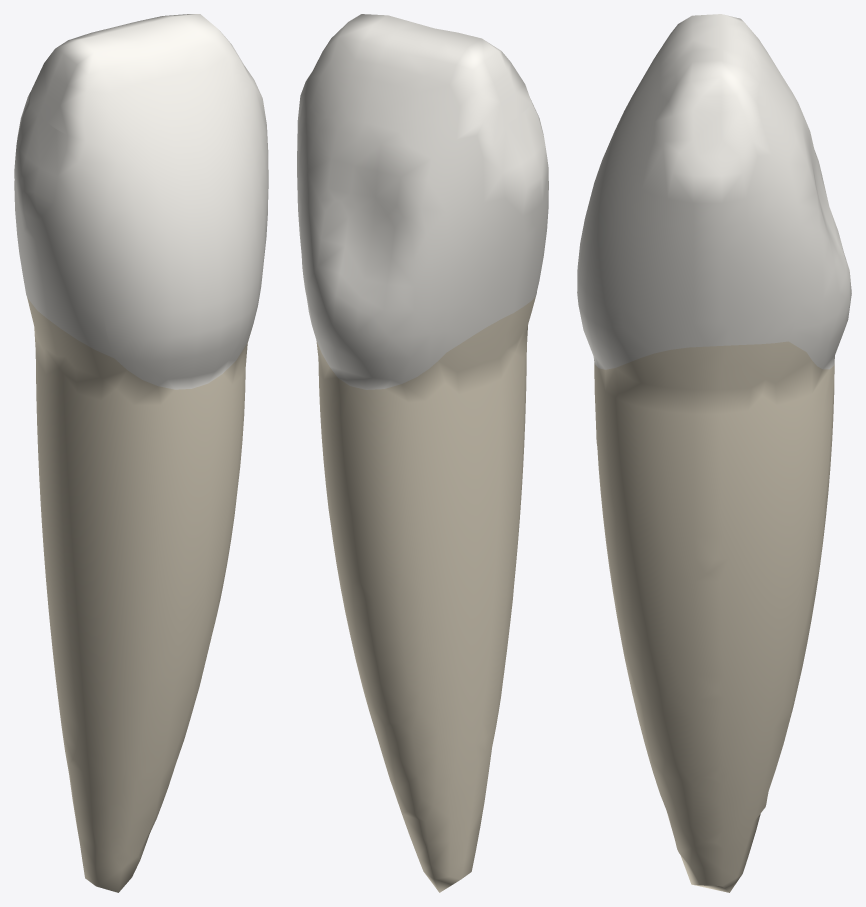
The picture shows the model from 3 angles, left to right: view 1: azimuth 30°, elevation 25°; view 2: azimuth 150°, elevation 25°; view 3: azimuth 270°, elevation 25°; orthographic projection. The views are drawn at different scales.
Visible parts, largest first — view 1: root, V, I, D, M; view 2: root, L, I, D, M; view 3: root, M, I, V, L.
Part boxes in pixels (x1,y1,x2,y2): root: [27, 297, 251, 892]; V: [101, 98, 264, 389]; I: [27, 14, 254, 153]; D: [14, 97, 125, 357]; M: [234, 80, 268, 265]; root: [316, 297, 535, 892]; L: [301, 117, 448, 389]; I: [305, 14, 531, 143]; D: [435, 99, 548, 352]; M: [297, 82, 325, 321]; root: [594, 341, 834, 892]; M: [619, 134, 802, 362]; I: [632, 14, 794, 156]; V: [577, 96, 647, 369]; L: [785, 93, 851, 369].
Size of the model in its own units: 3.92 by 13.89 by 3.99.
